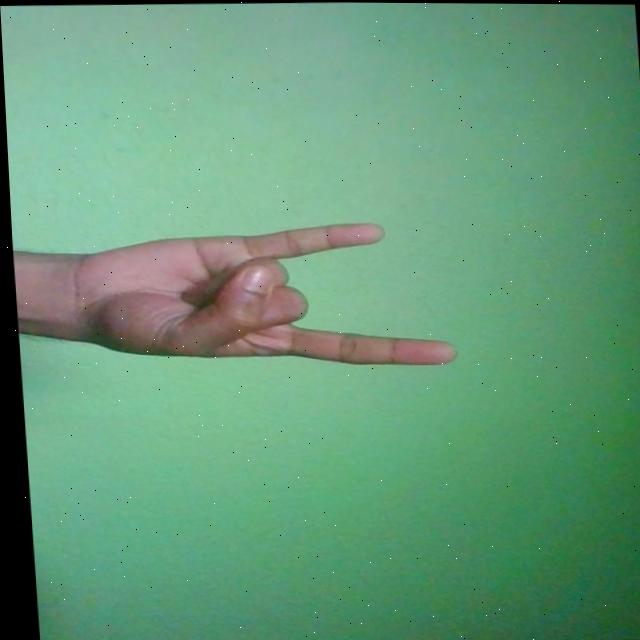Rock On: (52, 217, 454, 372)
